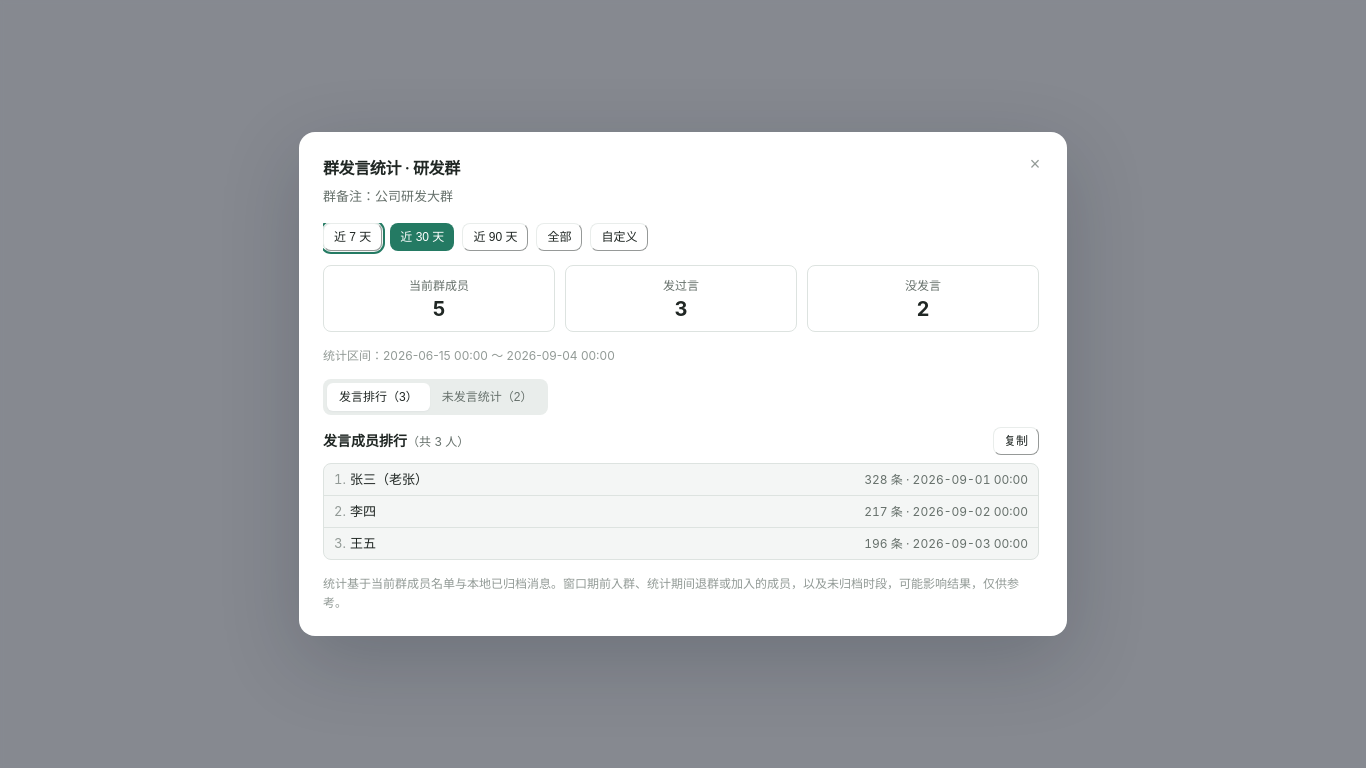
Test case: GroupMemberStatsDialog › canSendText = true 时出现发送按钮
Click the tab "未发言统计（2）" at (487, 397), box x1=430 y1=383 x2=544 y2=411
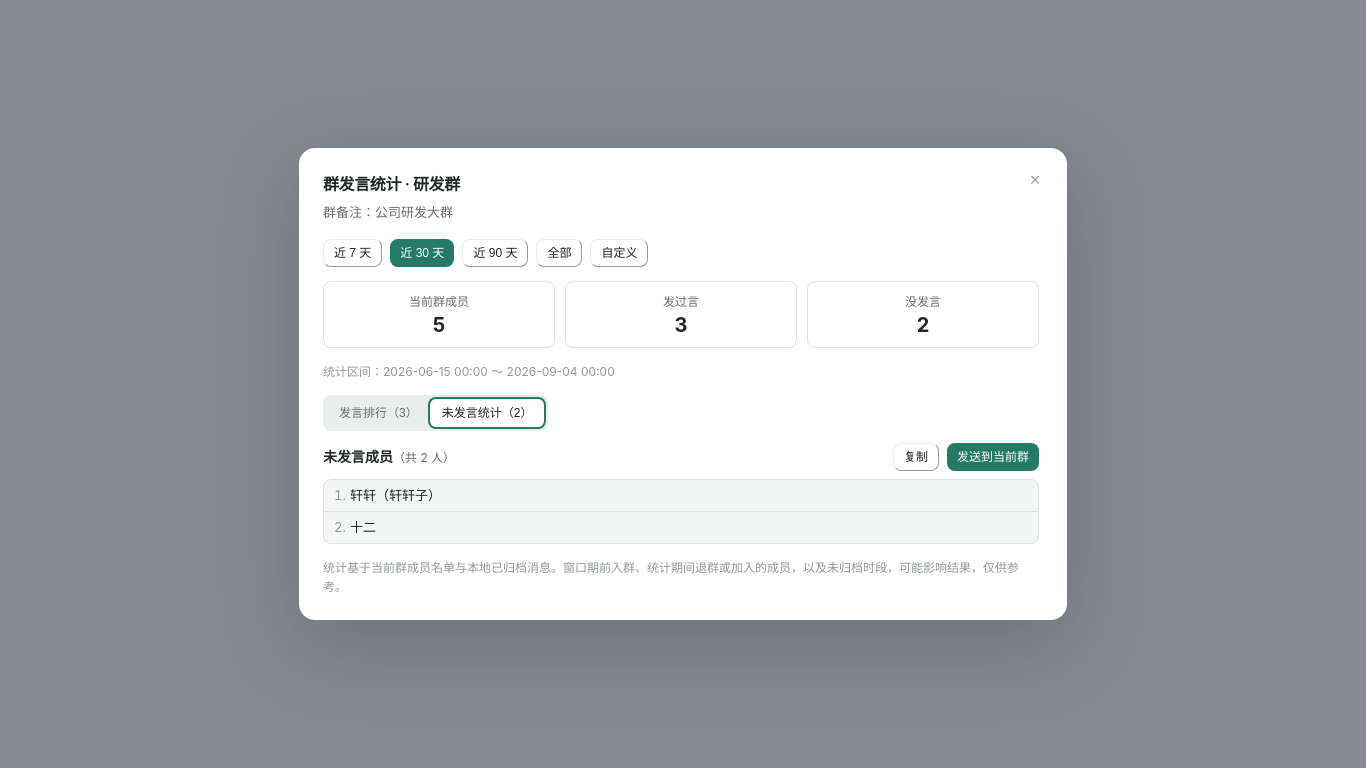
expect the text "1.轩轩（轩轩子）" is shown: met, box x1=334 y1=485 x2=441 y2=506
expect the button "发送到当前群" is shown: met, box x1=947 y1=443 x2=1039 y2=471
